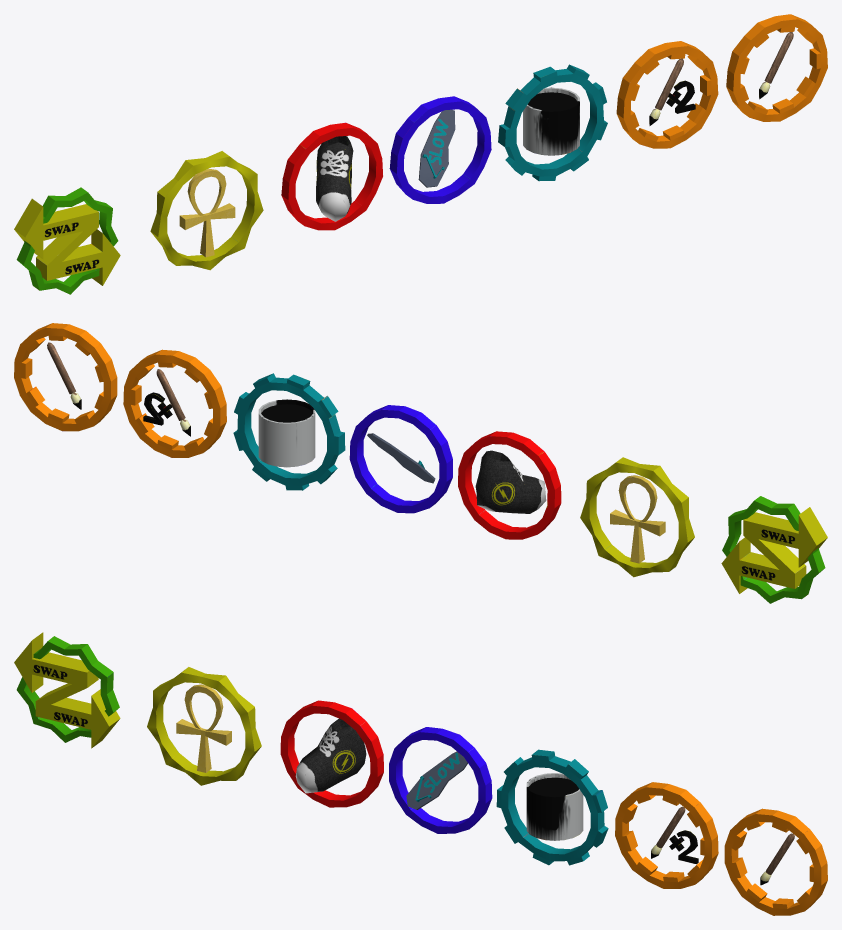
File: objetos geometria.FBX
The picture shows the model from 3 angles, top to bottom: view 1: azimuth 30°, elevation 25°; view 2: azimuth 150°, elevation 25°; view 3: azimuth 330°, elevation 25°; orthographic projection.
Visible parts, largest first — view 1: swap, spin004, spin007, spin005, spin1, spin003, spin002, Cylinder001, Box002, spin006, Plane001, Box001 (+2 smaller); view 2: swap, spin004, spin007, spin005, spin1, spin003, spin002, Cylinder001, Box002, spin006, Box001, Plane001 (+2 smaller); view 3: swap, spin004, spin007, spin005, spin1, spin003, spin002, Cylinder001, Box002, spin006, Box001, Plane001.
Boxes of the visible parts, x1,y1,x2,y2 form: swap: (14, 198, 120, 285); spin004: (498, 64, 607, 181); spin007: (726, 14, 827, 121); spin005: (616, 41, 718, 148); spin1: (150, 151, 263, 270); spin003: (389, 96, 491, 203); spin002: (281, 122, 382, 230); Cylinder001: (523, 87, 579, 155); Box002: (316, 136, 353, 221); spin006: (16, 187, 118, 294); Plane001: (418, 109, 455, 187); Box001: (179, 169, 235, 257); swap: (721, 507, 827, 593); spin004: (233, 373, 345, 490); spin007: (14, 323, 117, 431); spin005: (123, 349, 226, 457); spin1: (580, 457, 694, 577); spin003: (349, 405, 452, 513); spin002: (458, 431, 561, 539); Cylinder001: (258, 399, 315, 467); Box002: (475, 450, 546, 513); spin006: (722, 496, 825, 603); Box001: (610, 475, 665, 563); Plane001: (367, 433, 435, 483); swap: (14, 632, 120, 748); spin004: (496, 749, 608, 865); spin007: (724, 808, 827, 915); spin005: (615, 782, 718, 888); spin1: (147, 667, 261, 785); spin003: (389, 727, 492, 833); spin002: (280, 700, 383, 807); Cylinder001: (526, 773, 583, 840); Box002: (295, 718, 366, 793); spin006: (16, 636, 119, 742); Box001: (176, 684, 231, 772); Plane001: (406, 751, 467, 809).
Size of the model in its own units: 19.75 by 1.57 by 2.67.
